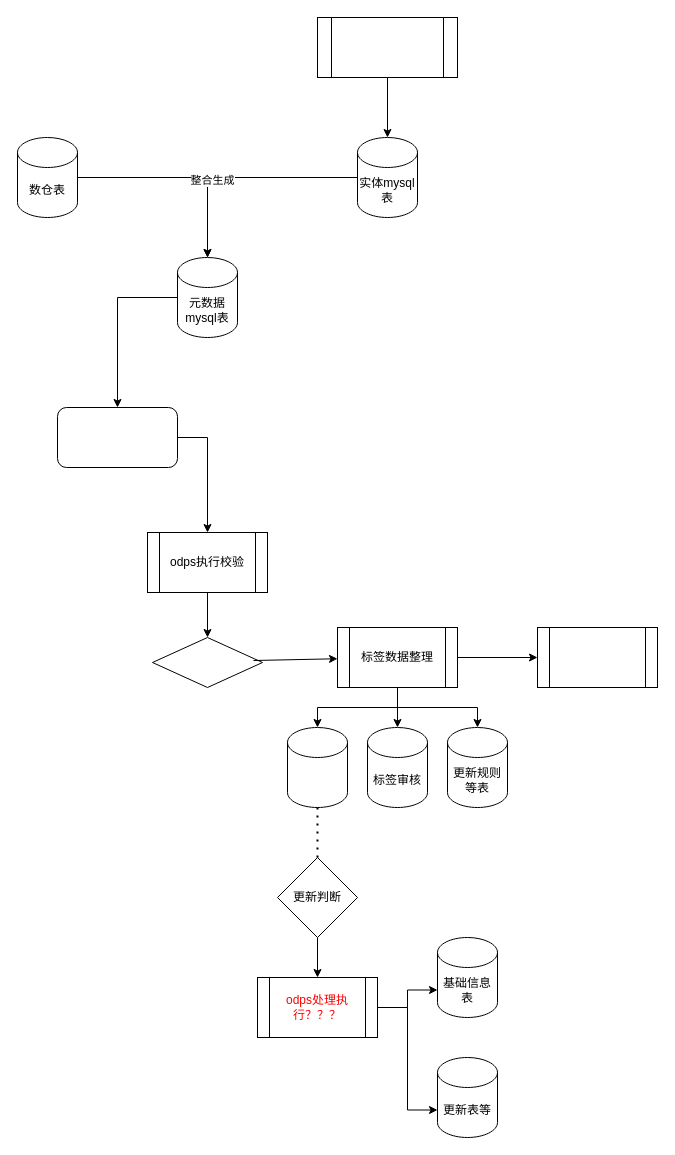
The diagram is 675 pixels wide and 1155 high, and some of its shapes have lost their labels. The centre of each missing label's shape, as x and y in pixels:
"odps里面数据处理？？？" goes at point (597, 657).
"标签基础信息" goes at point (317, 767).
"标签系统接口写入" goes at point (387, 47).
"校验通过" goes at point (207, 662).
"用户根据表结构提供具体sql语句" goes at point (117, 437).
